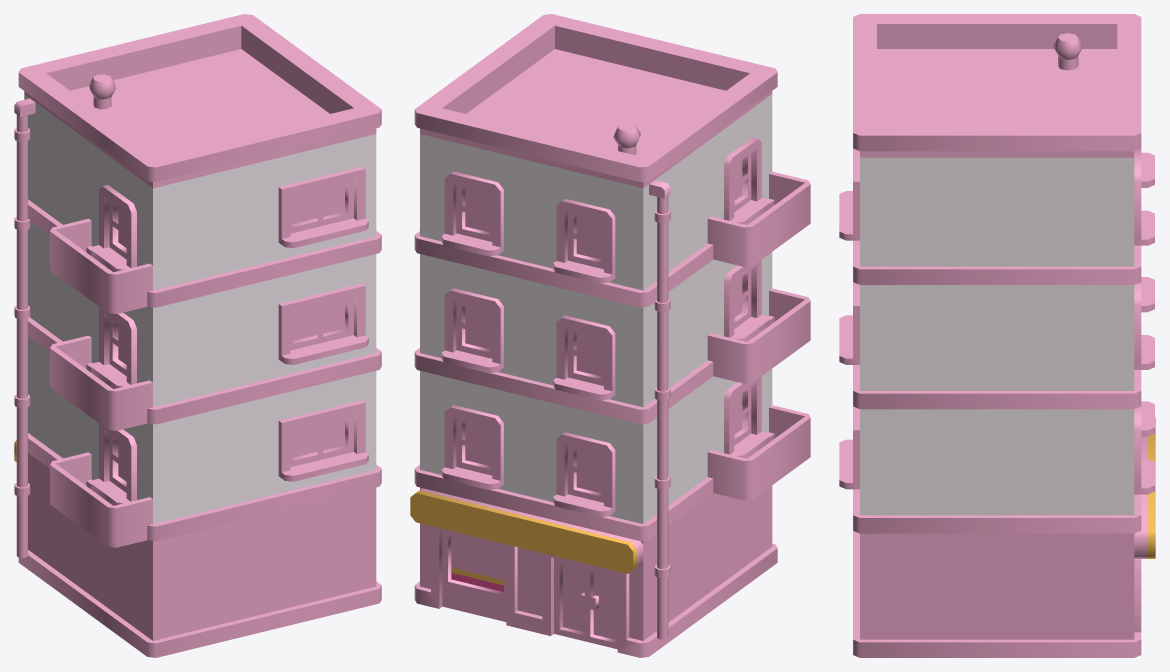
The model's file is building_g.obj.
The picture shows the model from 3 angles, left to right: view 1: azimuth 30°, elevation 25°; view 2: azimuth 150°, elevation 25°; view 3: azimuth 270°, elevation 25°; orthographic projection. The views are drawn at different scales.
Visible parts, largest first — view 1: building-g; view 2: building-g; view 3: building-g.
Part boxes in pixels (<box>): building-g: <box>14,14,381,657</box>; building-g: <box>410,14,810,657</box>; building-g: <box>839,14,1155,657</box>.
Bounding box in the file's own units: 19.4 × 33.86 × 18.44.
1 material, 1 textured.
